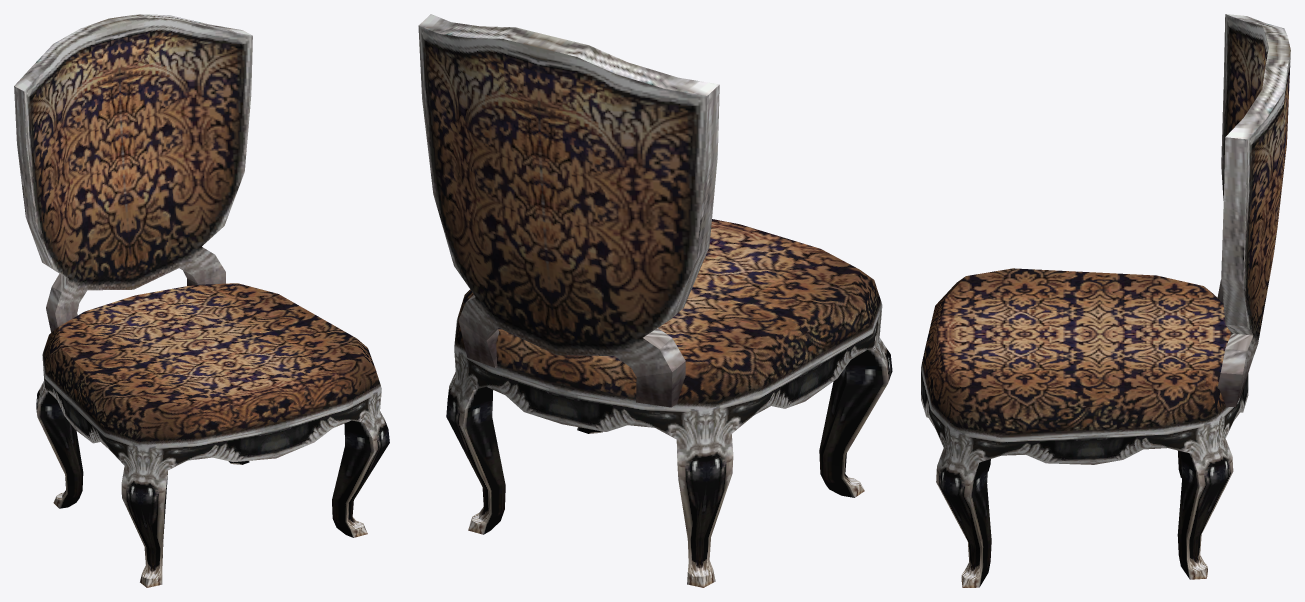
Rendered from furni_0201207.FBX.
The picture shows the model from 3 angles, left to right: view 1: azimuth 30°, elevation 25°; view 2: azimuth 150°, elevation 25°; view 3: azimuth 270°, elevation 25°; orthographic projection. The views are drawn at different scales.
Visible parts, largest first — view 1: furni_0201207; view 2: furni_0201207; view 3: furni_0201207.
Part boxes in pixels (left/top/right/bottom): furni_0201207: left=14, top=14, right=389, bottom=587; furni_0201207: left=418, top=14, right=892, bottom=587; furni_0201207: left=921, top=14, right=1290, bottom=587.
Size of the model in its own units: 72.78 by 112 by 78.13.
Materials: 1 (1 with a texture image).
